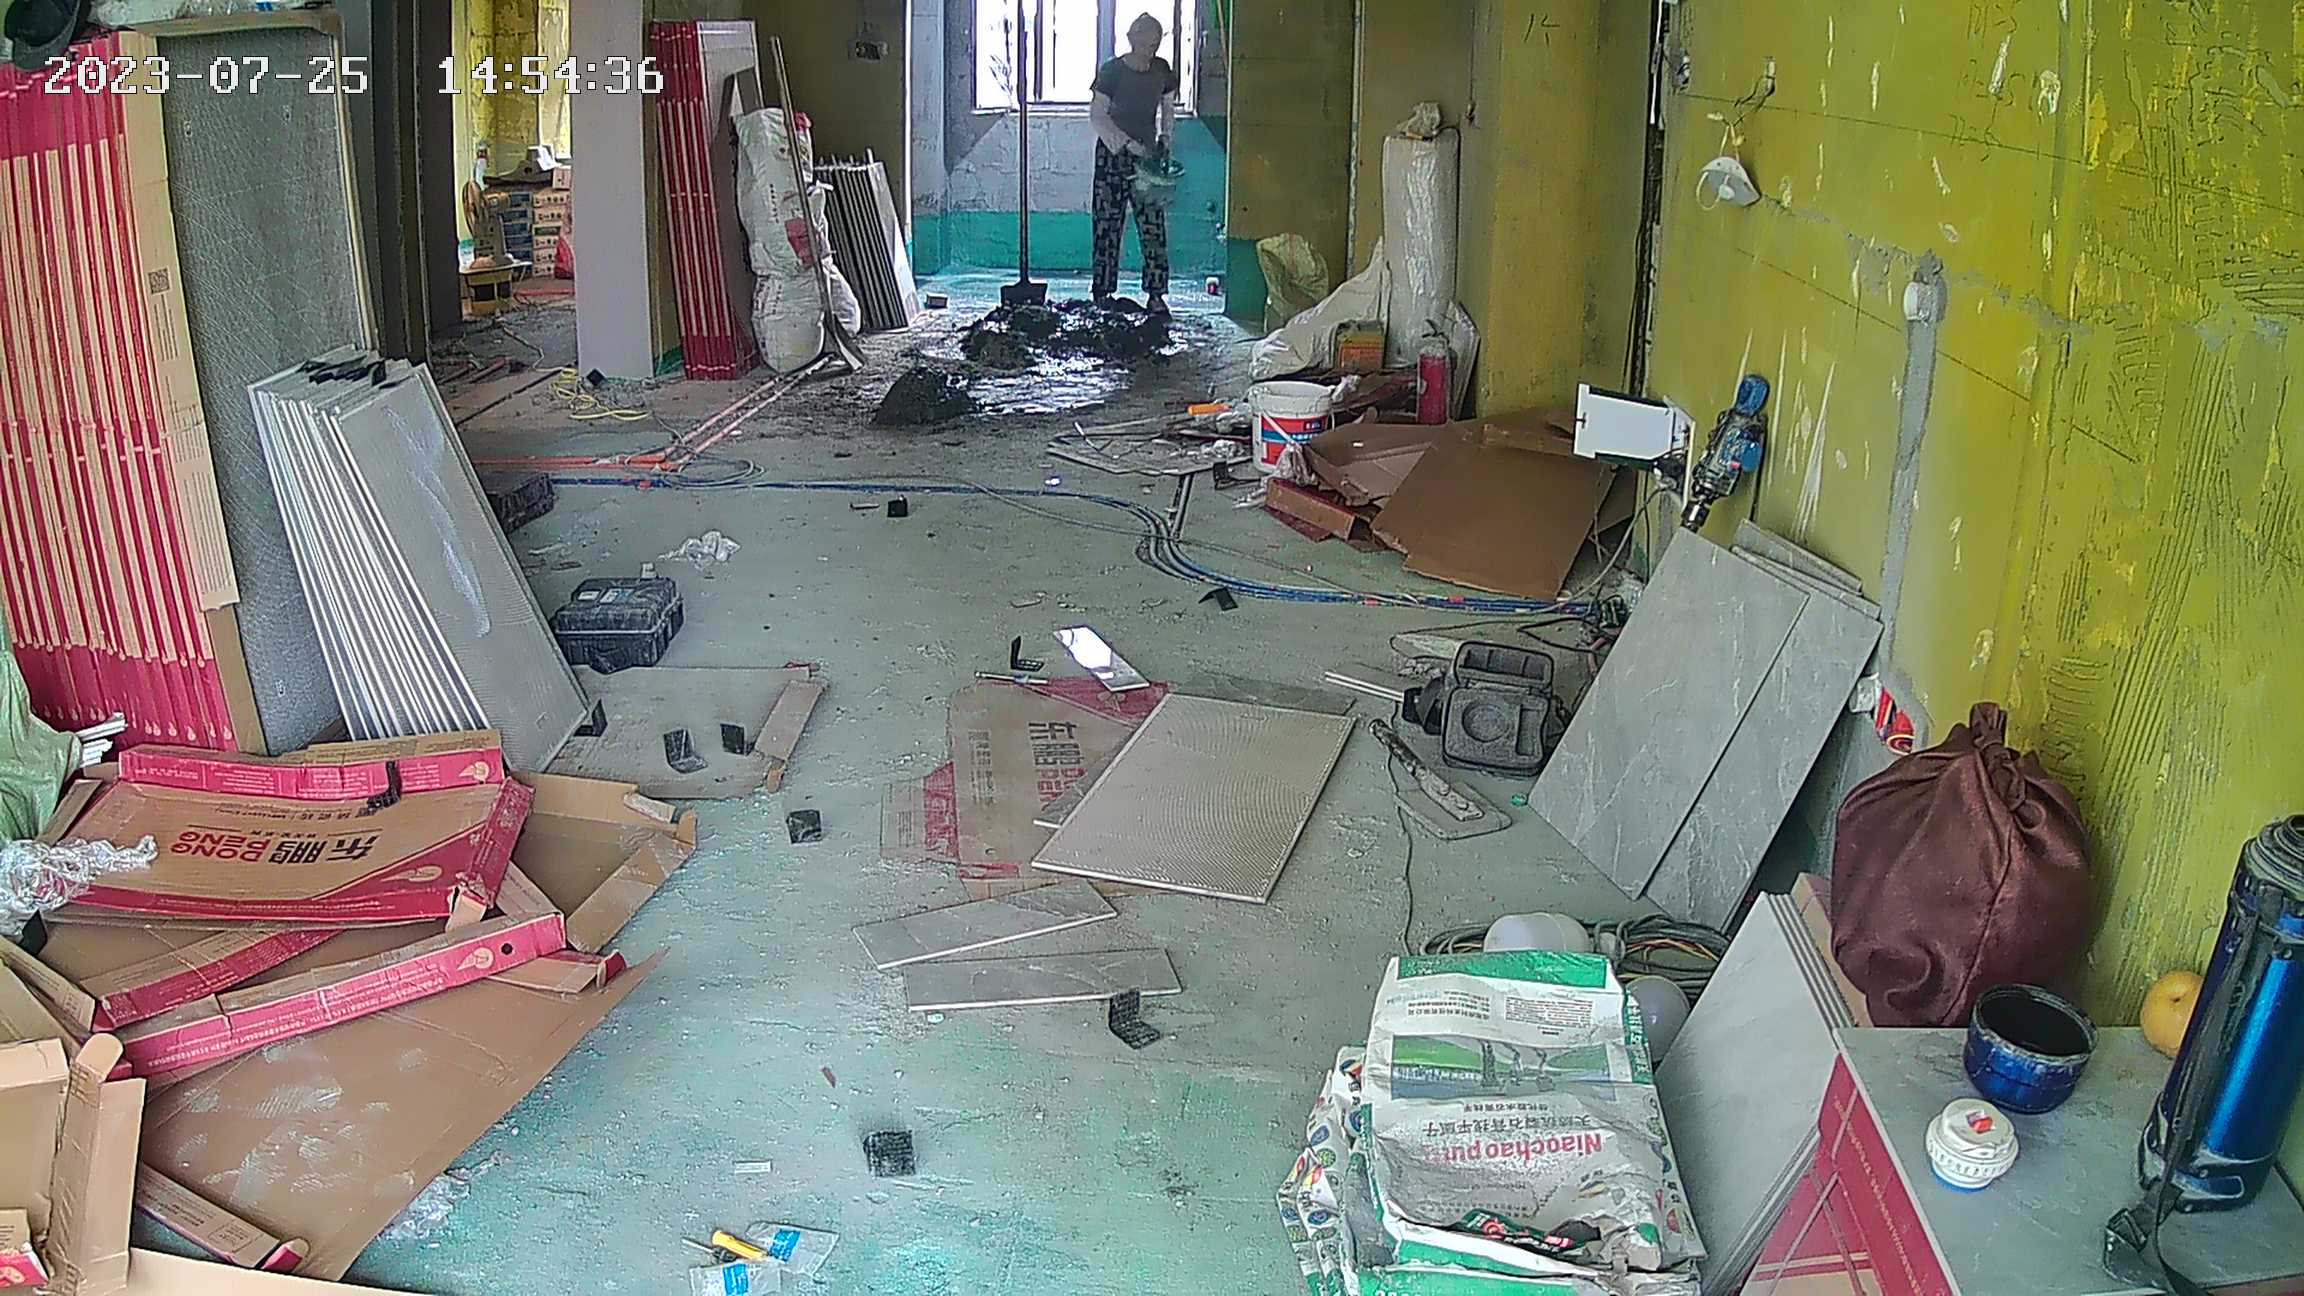people: (1085, 13, 1173, 312)
window: (975, 1, 1195, 110)
